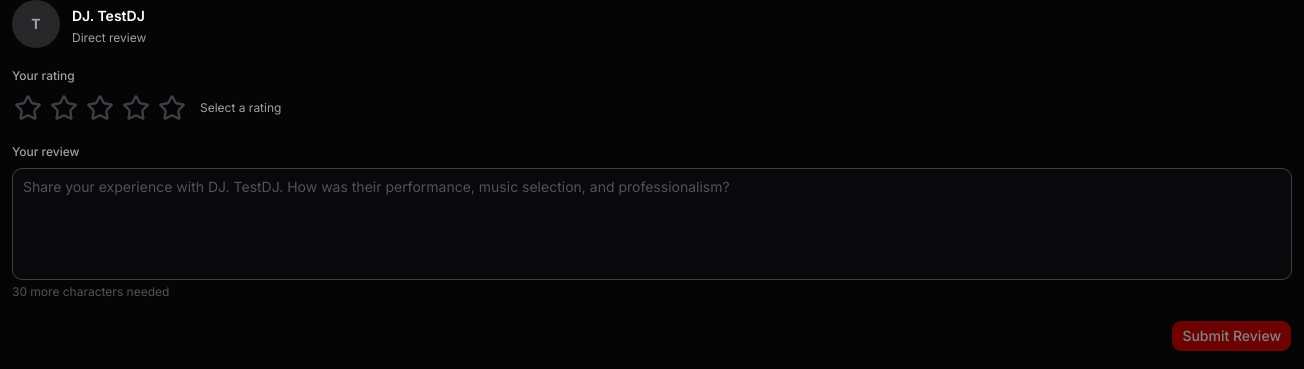
Scenario: DjRatingForm › enables submit button when rating is selected
Click the button named "Rate 5 stars" at (172, 108), box [156, 92, 188, 124]
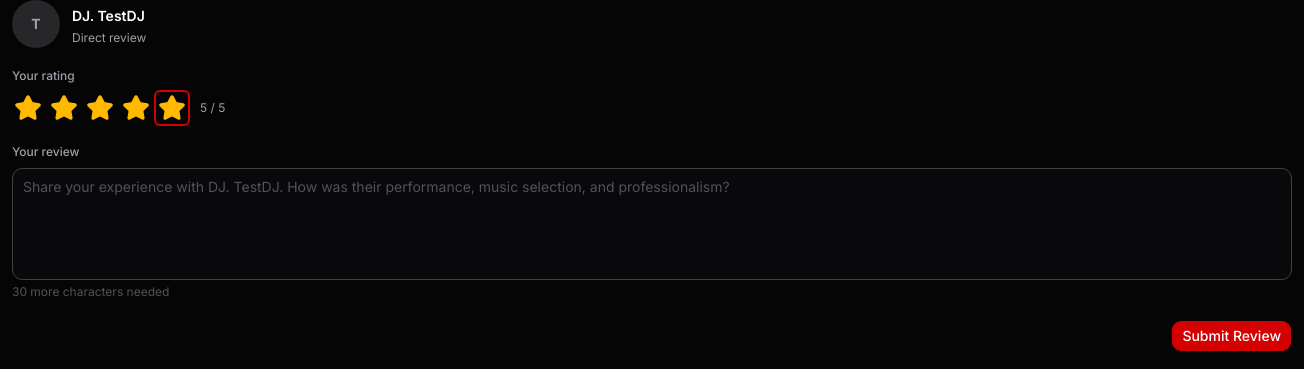
Expected: the button "Submit Review" is enabled, [1171, 320, 1292, 352]
